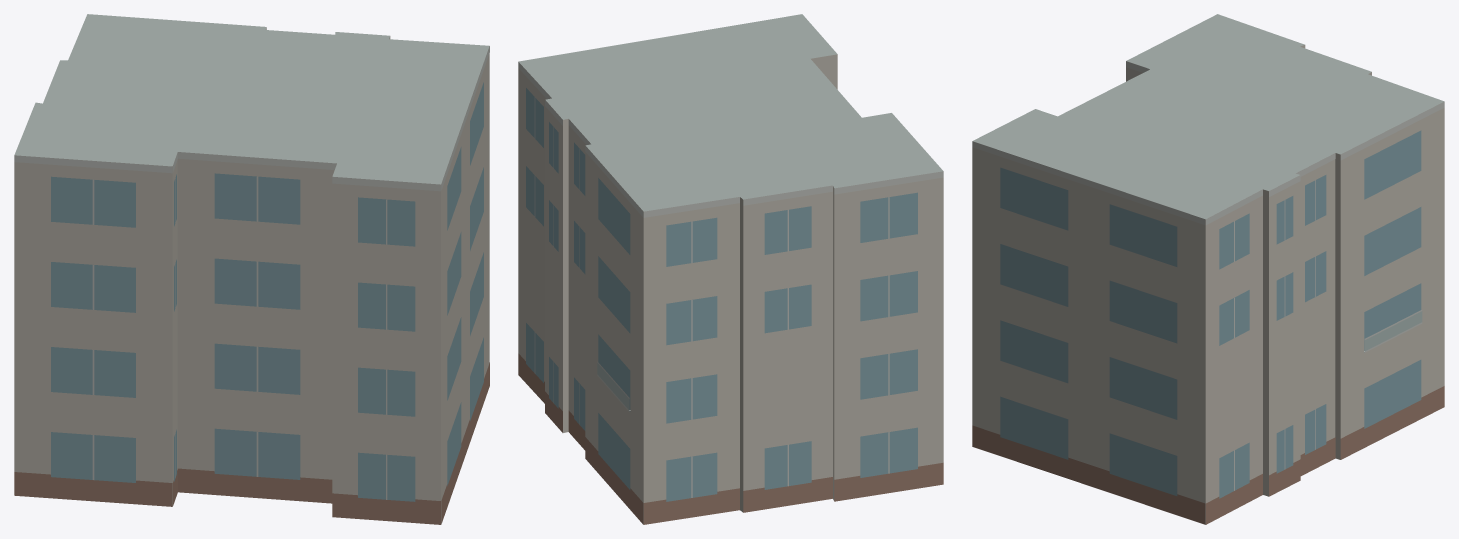
File: survey-upis-32524219.glb
3 renders of one model, left to right at view 1: azimuth 30°, elevation 25°; view 2: azimuth 150°, elevation 25°; view 3: azimuth 270°, elevation 25°, orthographic. The views are drawn at different scales.
Parts seen in each view (by area): view 1: survey-upis-32524219.tmp; view 2: survey-upis-32524219.tmp; view 3: survey-upis-32524219.tmp.
Part boxes in pixels (x1=…): survey-upis-32524219.tmp: x1=14, y1=14, x2=489, y2=524; survey-upis-32524219.tmp: x1=518, y1=14, x2=943, y2=524; survey-upis-32524219.tmp: x1=972, y1=14, x2=1444, y2=524.
Bounding box in the file's own units: 17.59 × 12.2 × 17.1.
